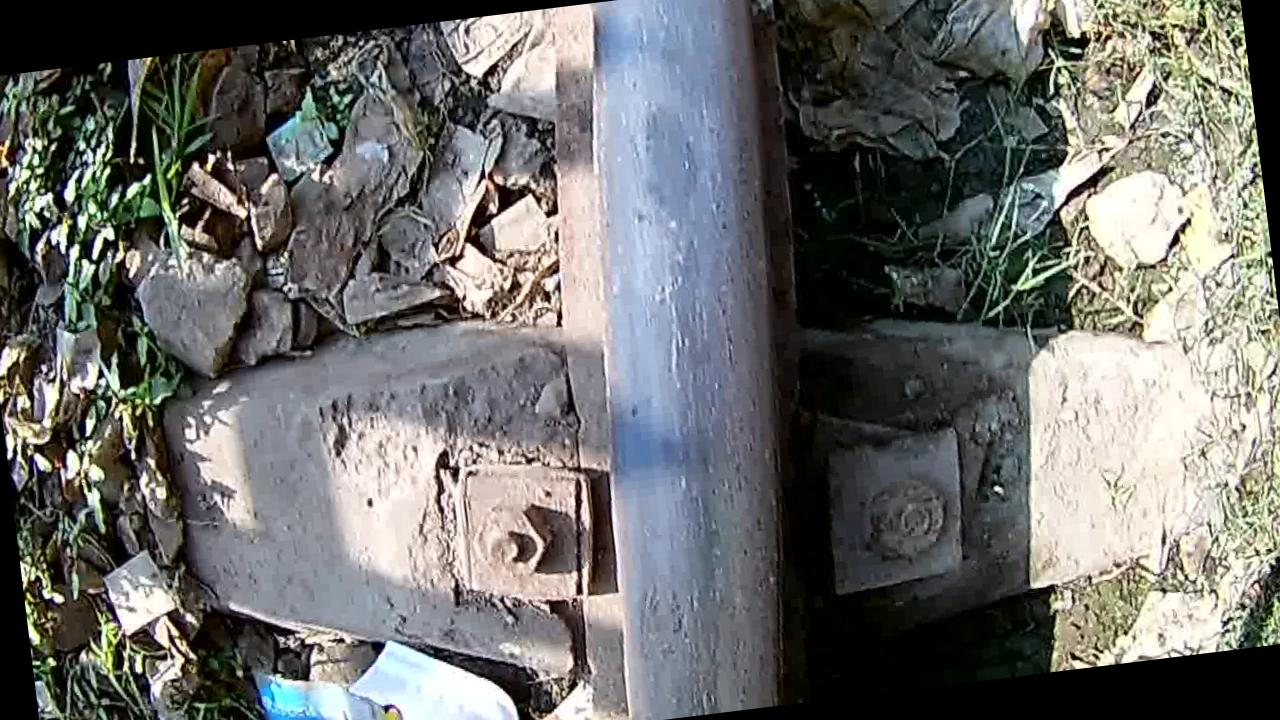bolt_missing: (584, 39, 782, 329)
